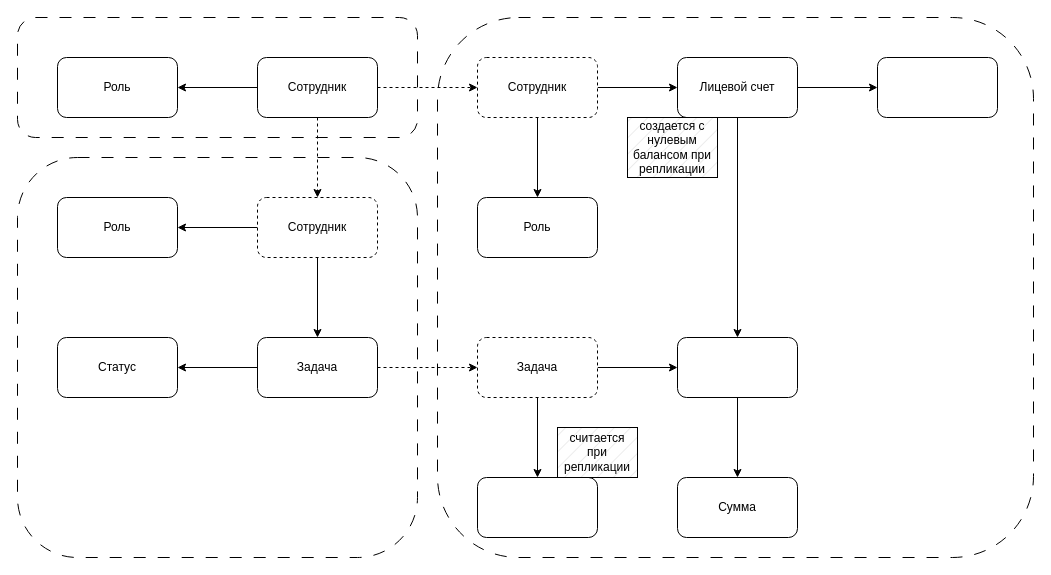
Some shapes in this 1051 by 575 pixel diagram are drawn without their labels. Here are the shapes that lost their labels. From the top down, the box of each, then its label:
(16, 16, 418, 138): Auth Domain
(876, 56, 998, 118): Баланс
(436, 16, 1034, 558): Account Domain
(16, 156, 418, 558): Task Domain
(676, 336, 798, 398): Транзакция
(476, 476, 598, 538): Стоимость
